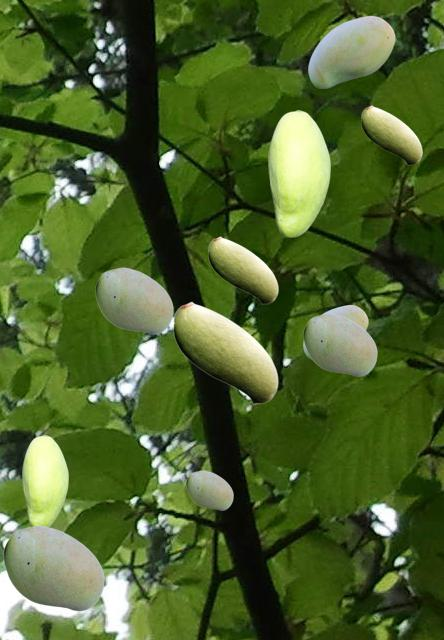green_mango: (173, 301, 277, 403), (3, 525, 103, 610), (268, 110, 329, 236), (308, 16, 394, 87), (95, 267, 172, 333), (208, 236, 277, 303), (303, 313, 376, 375), (22, 435, 67, 526), (361, 105, 421, 164), (303, 305, 367, 358), (186, 470, 232, 509)
